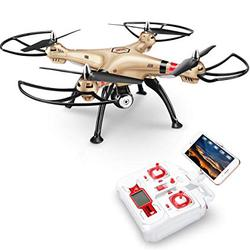drone: (1, 17, 249, 145)
